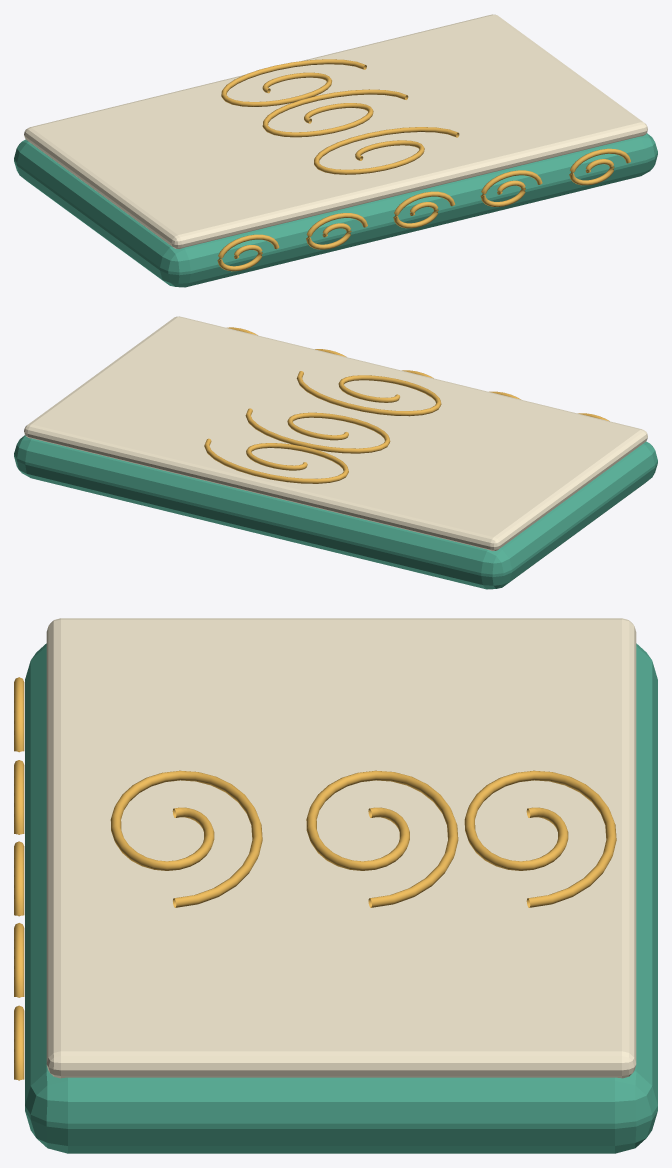
Rendered from stage-cloud-plinth.glb.
3 views of the same model, one above another, from view 1: azimuth 30°, elevation 25°; view 2: azimuth 150°, elevation 25°; view 3: azimuth 270°, elevation 25° (orthographic). The views are drawn at different scales.
Parts seen in each view (by area): view 1: stage-cloud-plinth; view 2: stage-cloud-plinth; view 3: stage-cloud-plinth.
Part boxes in pixels (x1,y1,x2,y2): stage-cloud-plinth: (14,14,657,287); stage-cloud-plinth: (14,316,657,589); stage-cloud-plinth: (14,618,657,1153).
Size of the model in its own units: 3.8 by 0.428 by 2.24.
